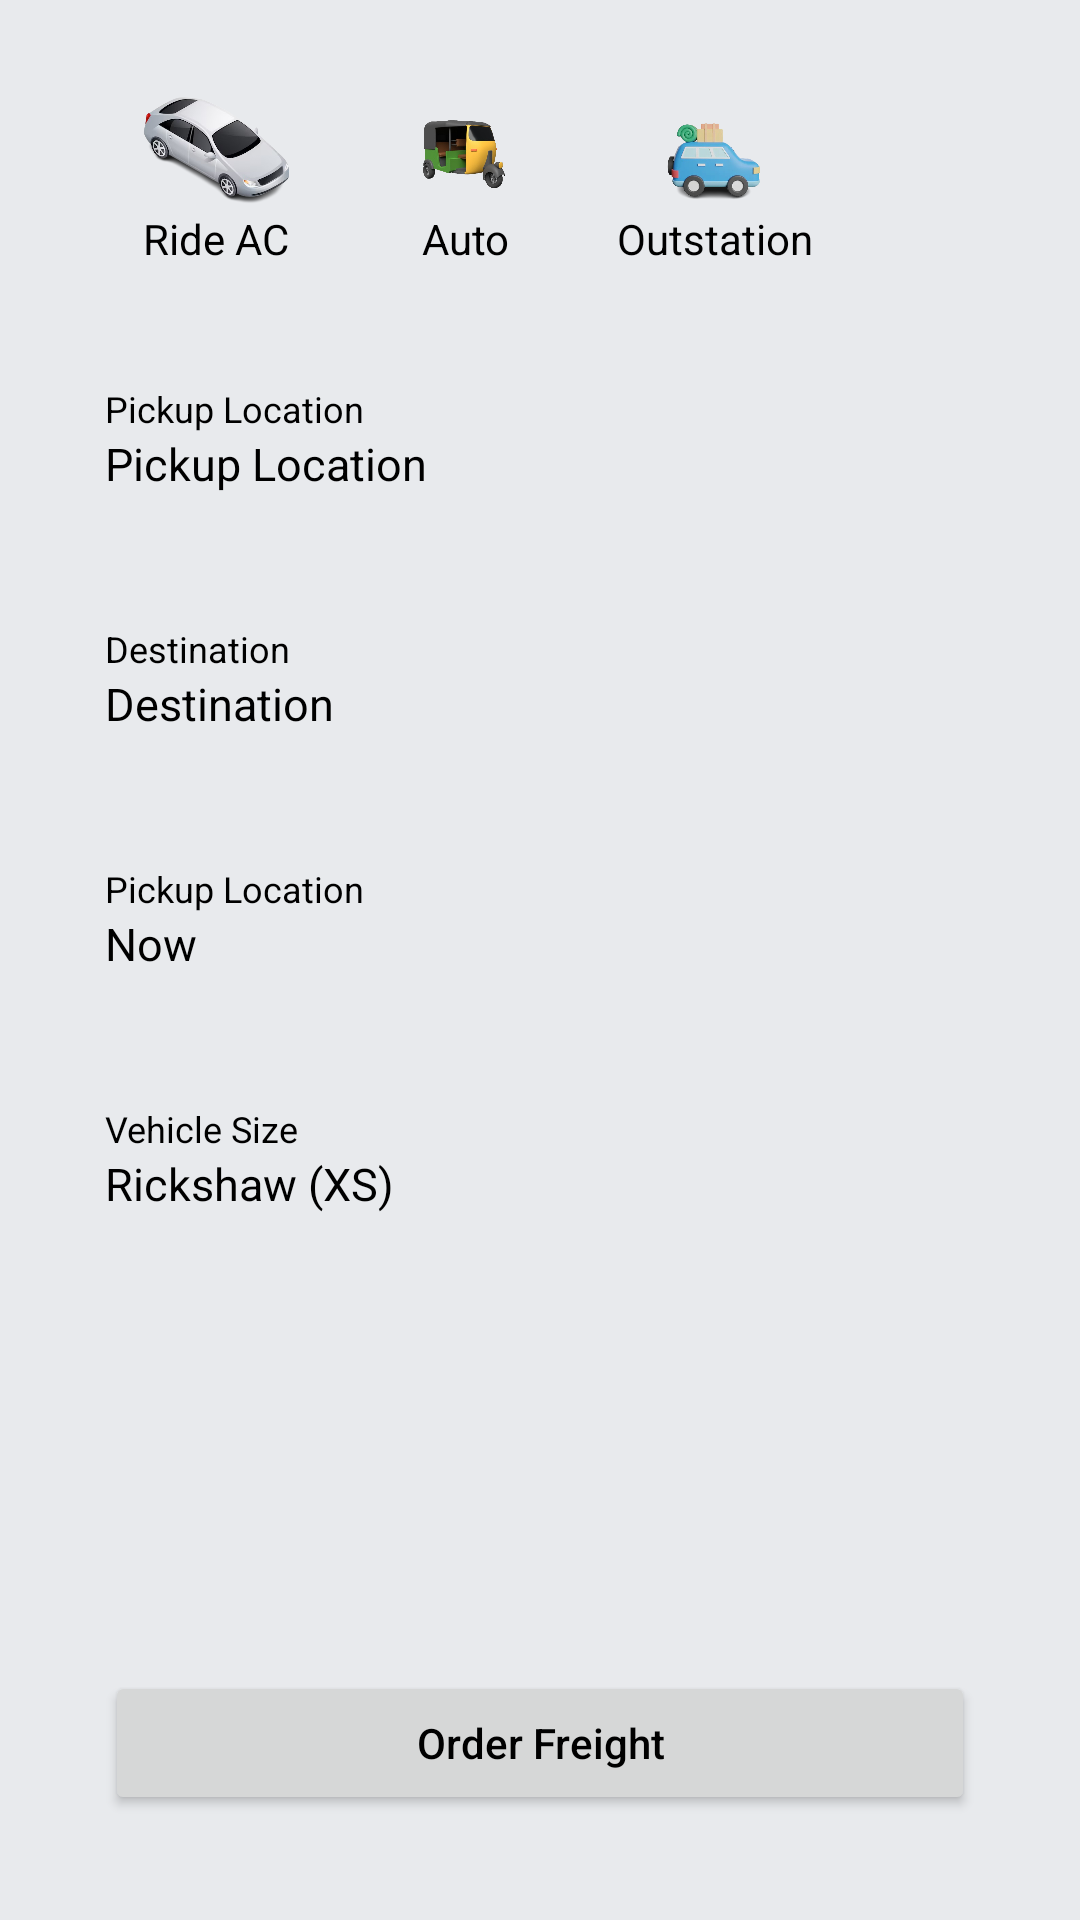

Where icons sit on this 1080x1920 app screen, as (x1, y1, x2, y2):
ride car: (144, 98, 289, 202)
